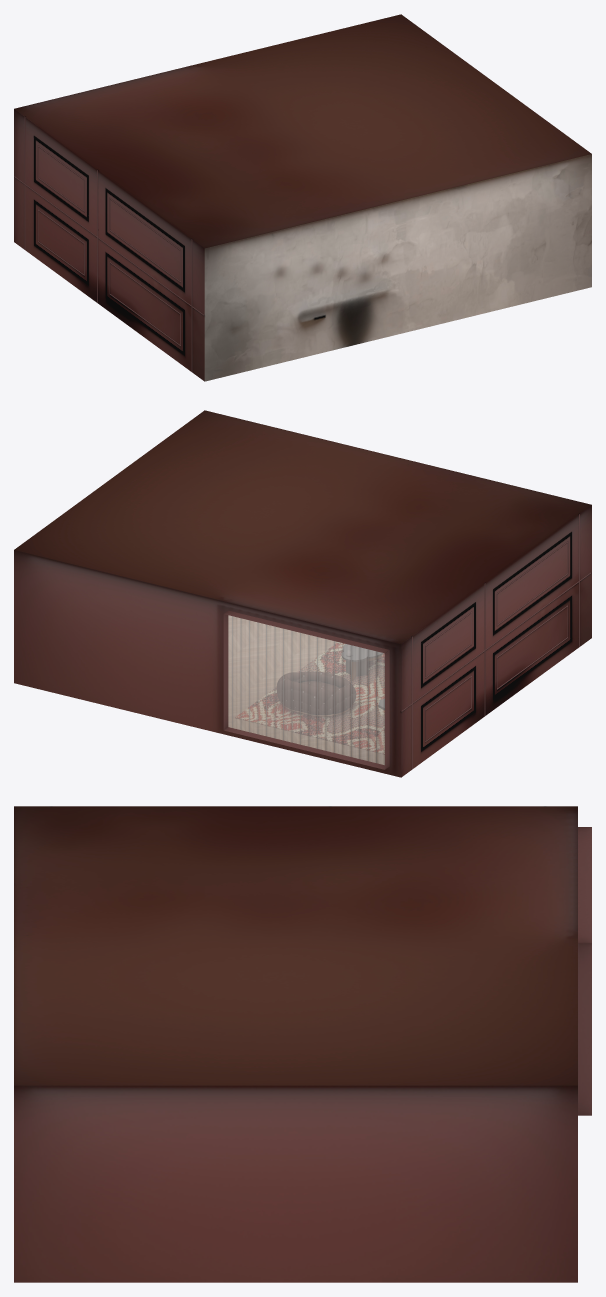
Rendered from vintage_living_room.glb.
The picture shows the model from 3 angles, top to bottom: view 1: azimuth 30°, elevation 25°; view 2: azimuth 150°, elevation 25°; view 3: azimuth 270°, elevation 25°; orthographic projection. The views are drawn at different scales.
Visible parts, largest first — view 1: house, wall; view 2: house, curtain, floor, carpet, sofa, table; view 3: house.
Part boxes in pixels (box(x1,y1,x2,y2)): house: box(14, 14, 591, 381); wall: box(204, 154, 591, 381); house: box(14, 410, 591, 777); curtain: box(228, 615, 384, 765); floor: box(228, 616, 384, 764); carpet: box(235, 642, 384, 754); sofa: box(277, 672, 355, 716); table: box(342, 644, 384, 709); house: box(14, 806, 591, 1282).
Bounding box in the file's own units: 12.17 × 4.01 × 10.63.
19 materials, 19 textured.
